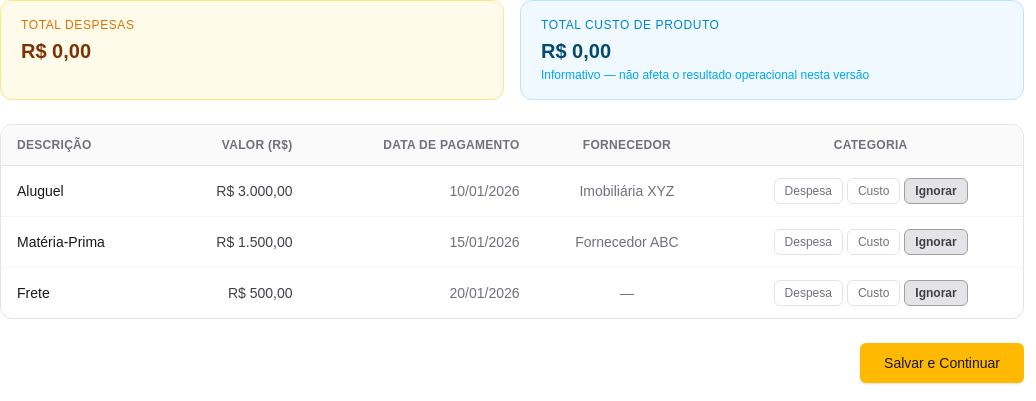
Test: PaidAccountsList › real-time totals (AC: 4) › accumulates totals from multiple accounts
The image size is (1036, 401).
Step 1. Click the radio button with aria-label "Despesa" → (808, 191), box [774,178,843,204]
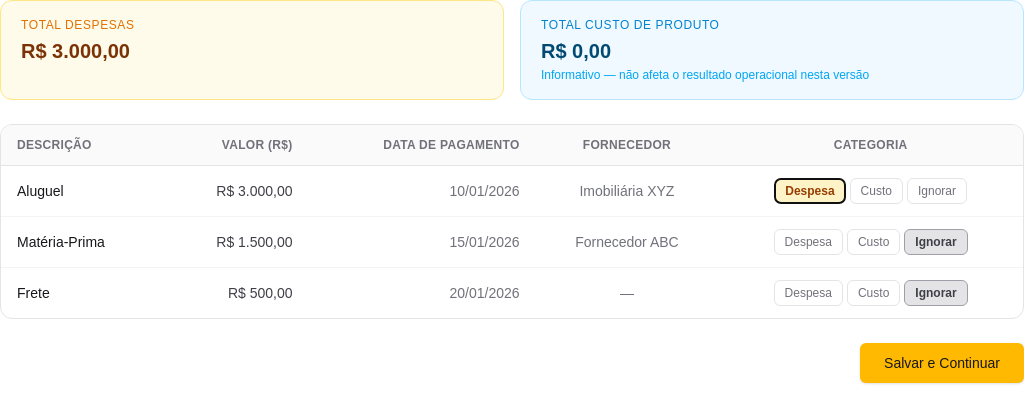
Step 2. Click the radio button with aria-label "Despesa" → (808, 293), box [774,280,843,306]
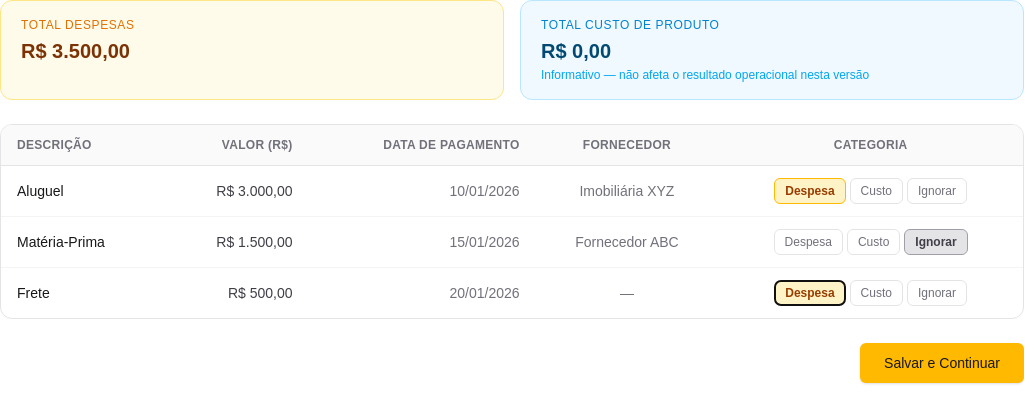
Expected: the text named "Total despesas:" shows "3.500", [21,40,130,62]
